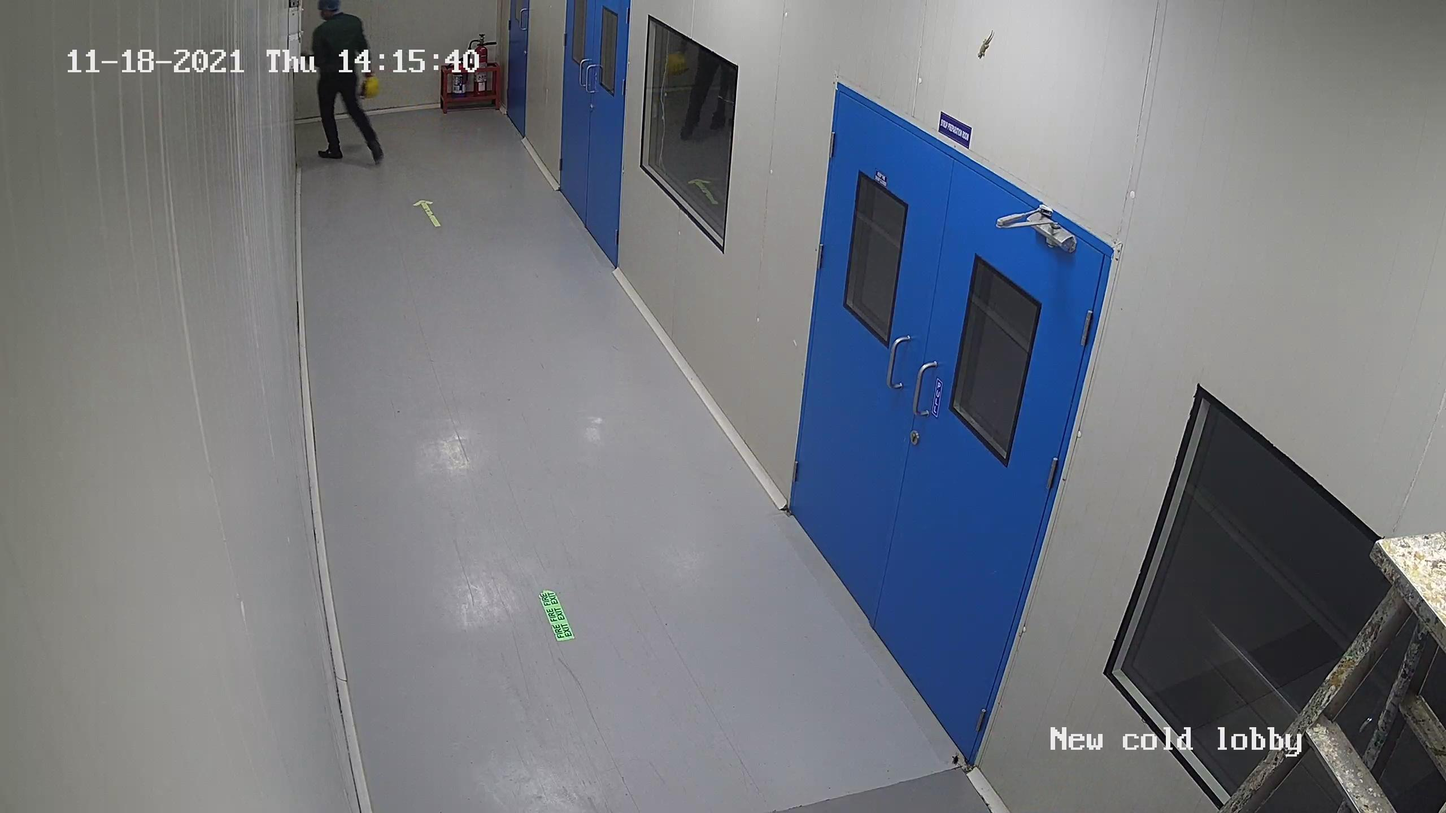cockroach: (948, 750, 962, 769)
lizard: (973, 22, 996, 67)
